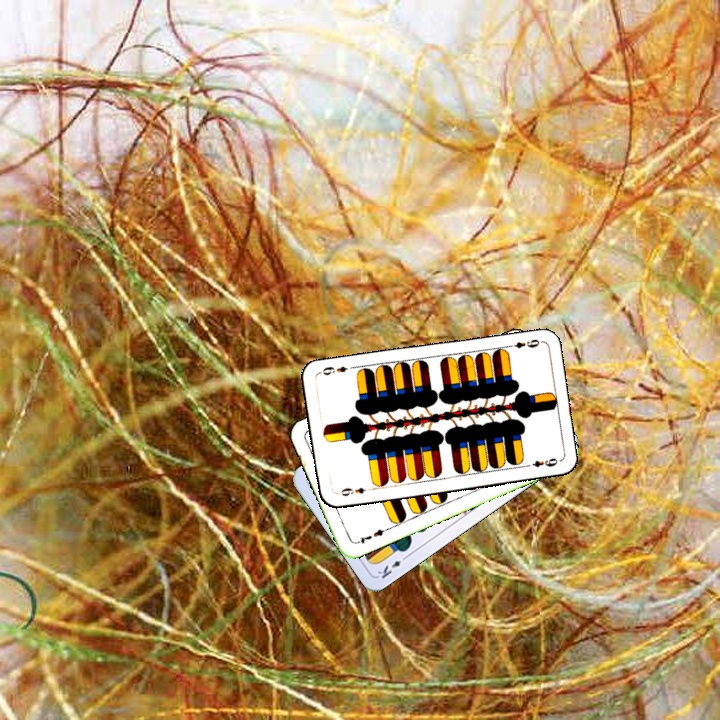E7: (352, 524, 390, 546)
E9: (503, 335, 543, 351), (334, 483, 368, 498)
EK: (373, 551, 411, 581)
